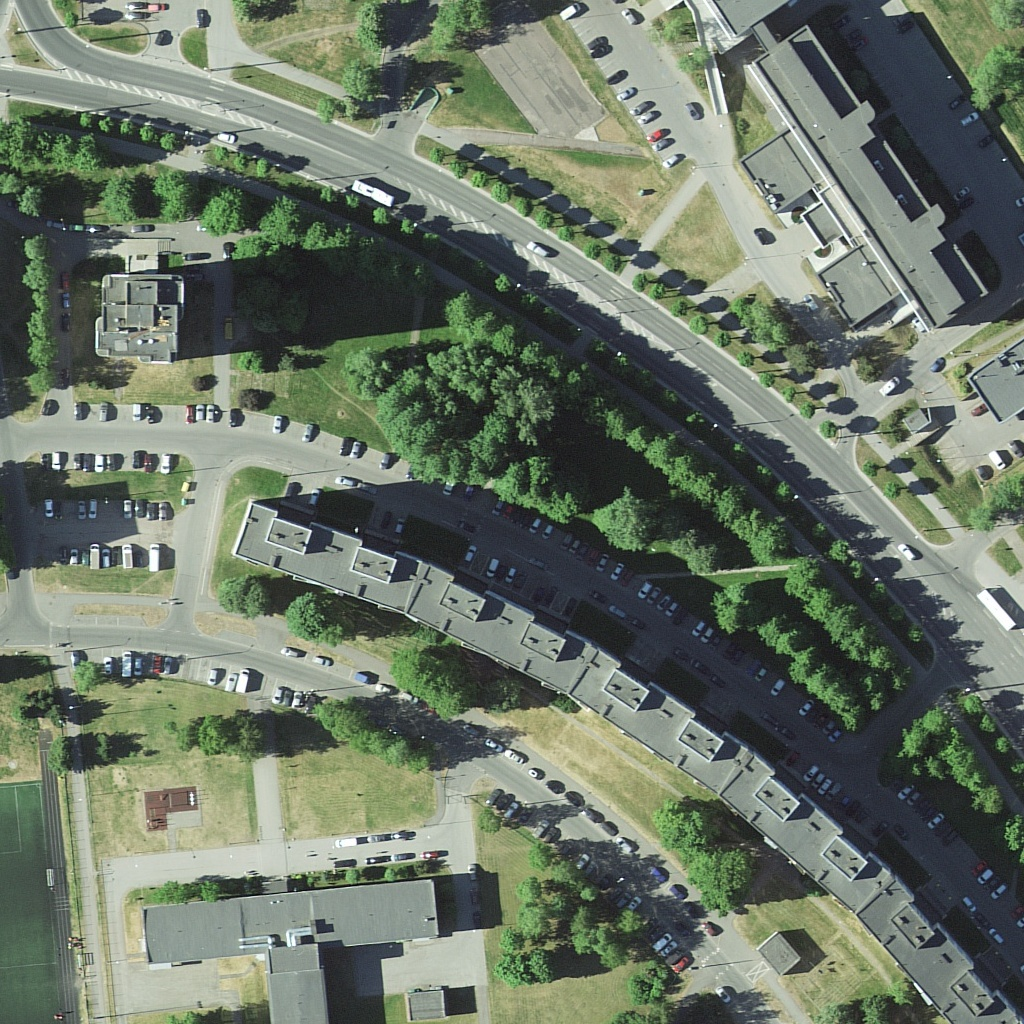building: (751, 23, 992, 326), (140, 873, 445, 968), (719, 749, 890, 912), (573, 647, 753, 796), (408, 565, 597, 697), (857, 884, 1022, 1024), (229, 499, 427, 614), (92, 270, 194, 363)
